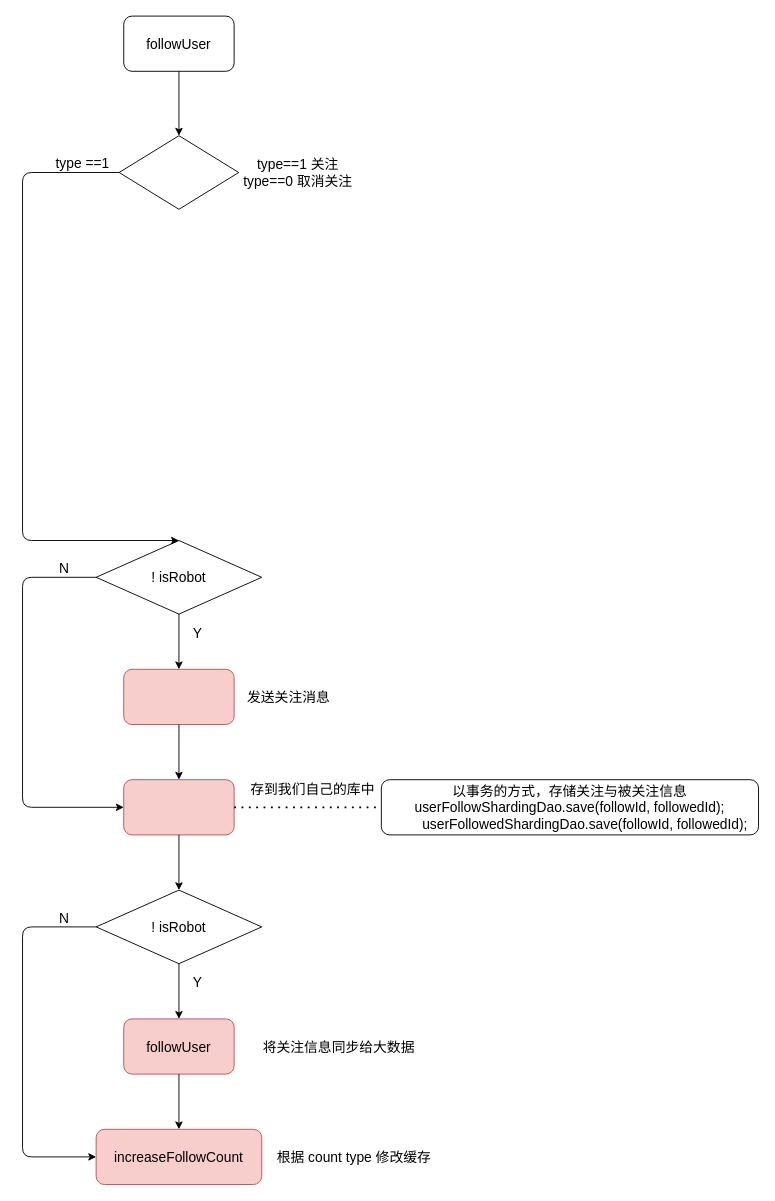
The diagram is 775 pixels wide and 1201 high, and some of its shapes have lost their labels. The shapes that lost their labels are listed below. From the top down, each one's box as (x1, y1, x2, y2) in pixels, then its label:
(118, 135, 239, 209): type ==0 or 1
(123, 668, 234, 724): sendFollowMsg
(123, 779, 234, 835): saveUserFollow
